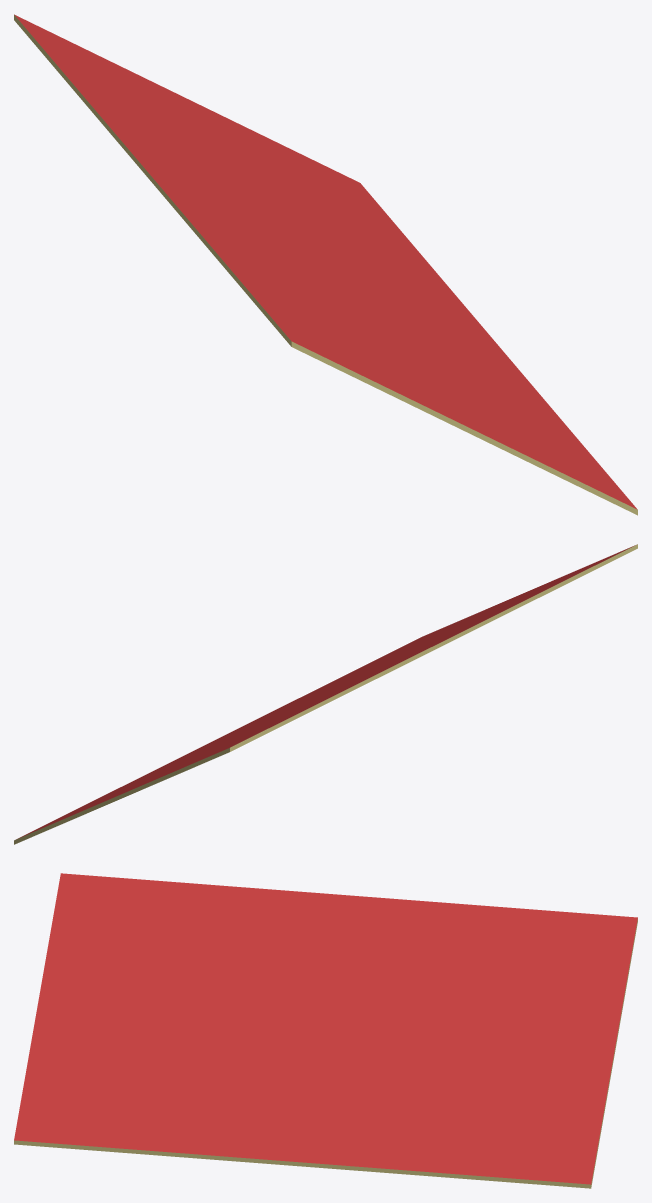
The picture shows the model from 3 angles, top to bottom: view 1: azimuth 30°, elevation 25°; view 2: azimuth 150°, elevation 25°; view 3: azimuth 270°, elevation 25°; orthographic projection. The views are drawn at different scales.
Size of the model in its own units: 8.07 by 13.87 by 3.97.
